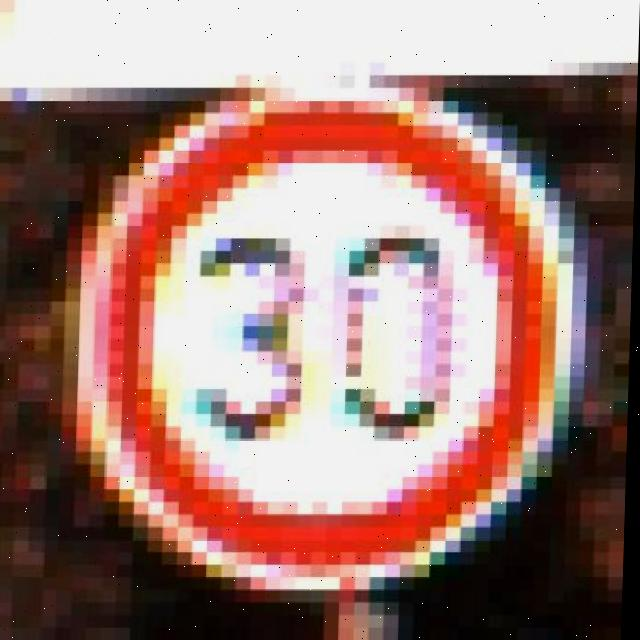Speed limit 30: (72, 84, 573, 595)
